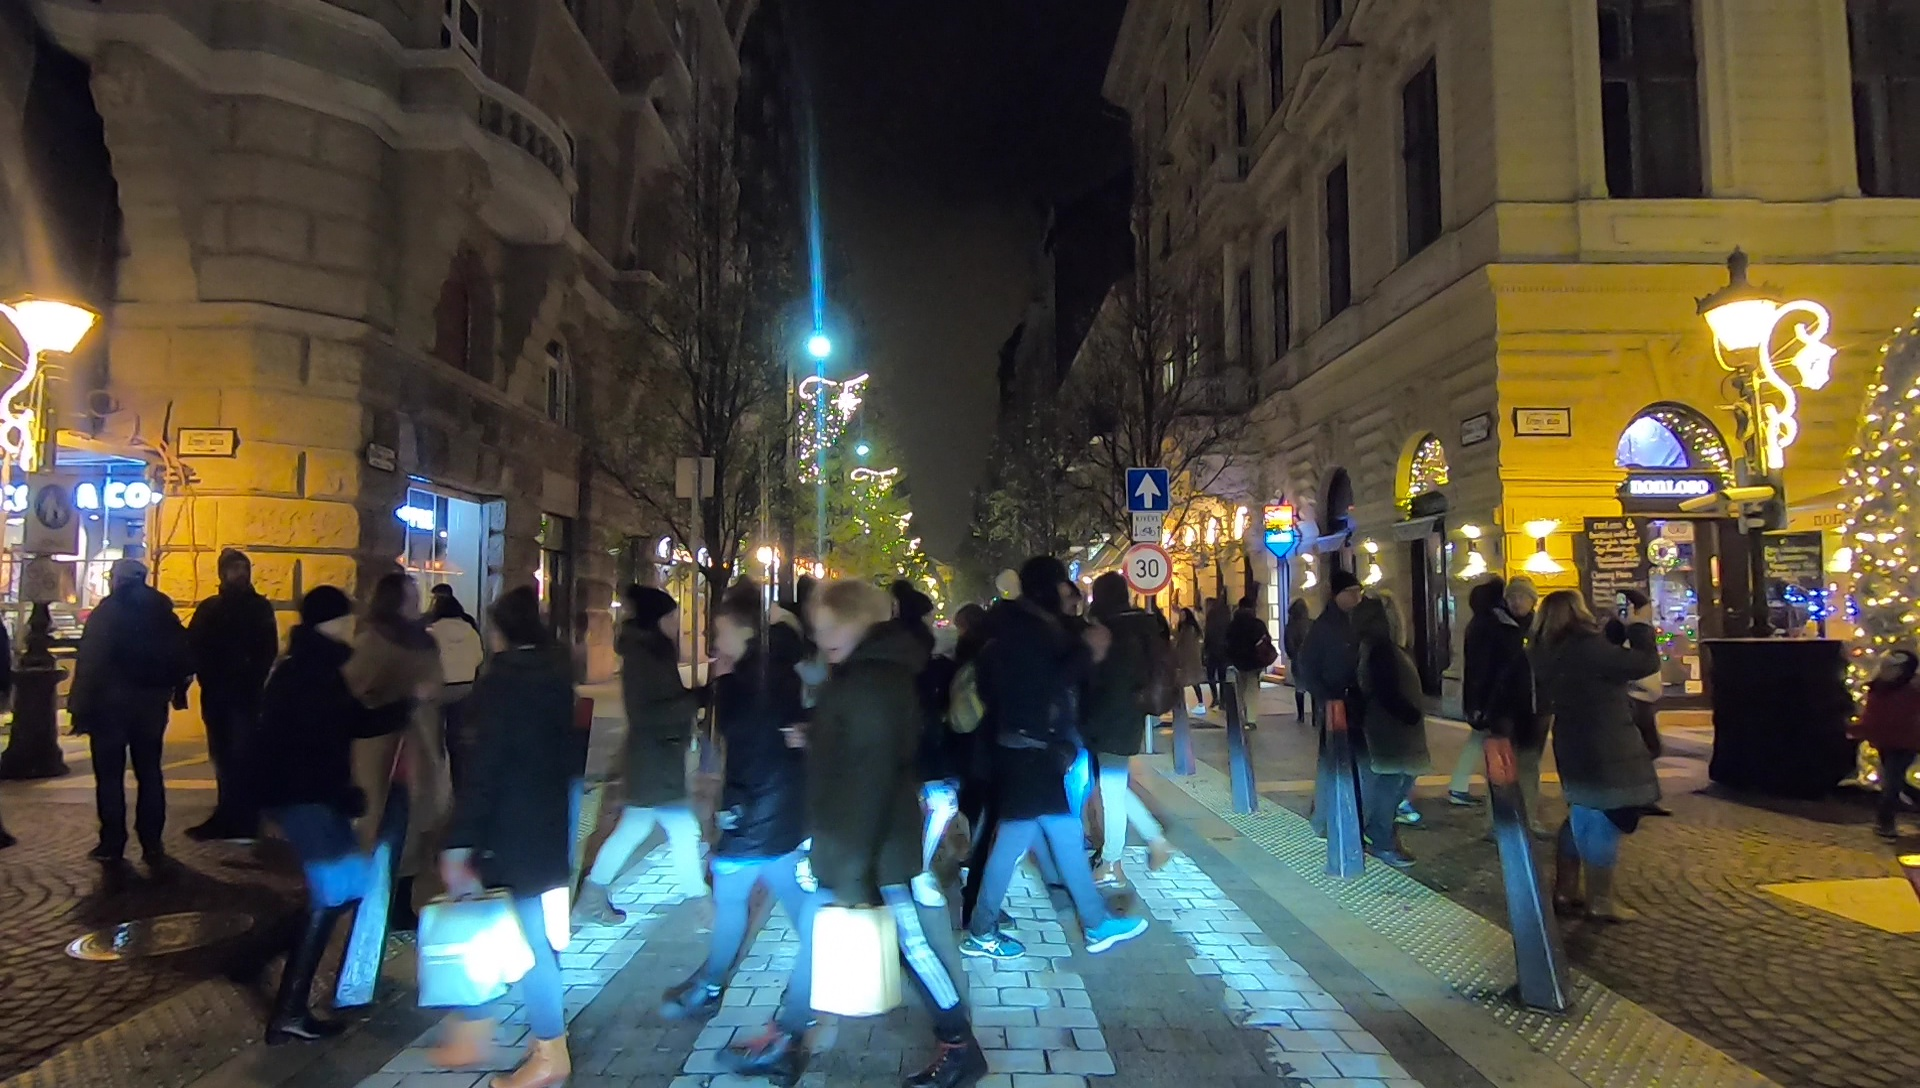person: (752, 587, 991, 1078), (438, 586, 591, 1082), (675, 597, 838, 1015), (984, 571, 1132, 960), (573, 584, 726, 945), (276, 580, 380, 1041), (1532, 595, 1645, 921), (1065, 563, 1178, 880), (76, 563, 178, 865), (184, 532, 276, 841), (364, 567, 434, 911), (1349, 595, 1425, 865), (1464, 580, 1545, 811), (1306, 571, 1373, 800), (1234, 597, 1269, 734), (1199, 600, 1236, 708), (1165, 606, 1202, 708)
